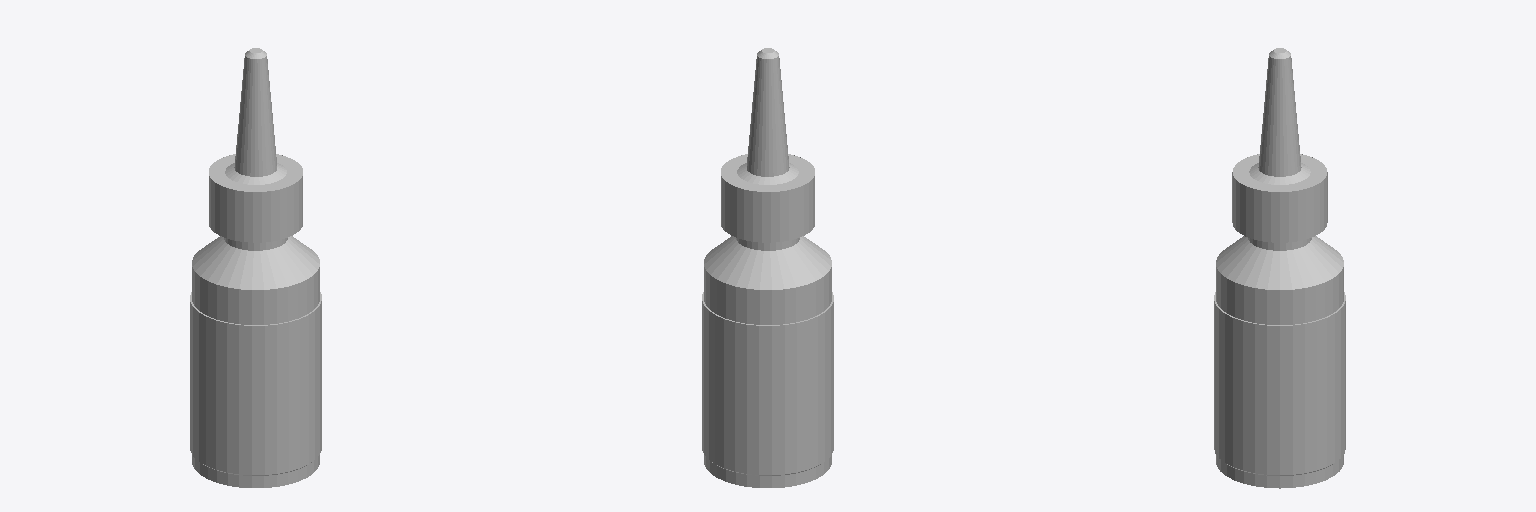
The model's file is MedincineBottle.obj.
The picture shows the model from 3 angles: view 1: azimuth 30°, elevation 25°; view 2: azimuth 150°, elevation 25°; view 3: azimuth 270°, elevation 25°; orthographic projection.
Parts seen in each view (by area): view 1: Cylinder, Cylinder.001; view 2: Cylinder, Cylinder.001; view 3: Cylinder, Cylinder.001.
Part boxes in pixels (left/top/right/bottom): Cylinder: left=190, top=236, right=321, bottom=487; Cylinder.001: left=209, top=48, right=302, bottom=242; Cylinder: left=702, top=236, right=833, bottom=487; Cylinder.001: left=721, top=48, right=814, bottom=242; Cylinder: left=1214, top=236, right=1345, bottom=488; Cylinder.001: left=1232, top=48, right=1327, bottom=242.
Size of the model in its own units: 2.06 by 7.04 by 2.06.